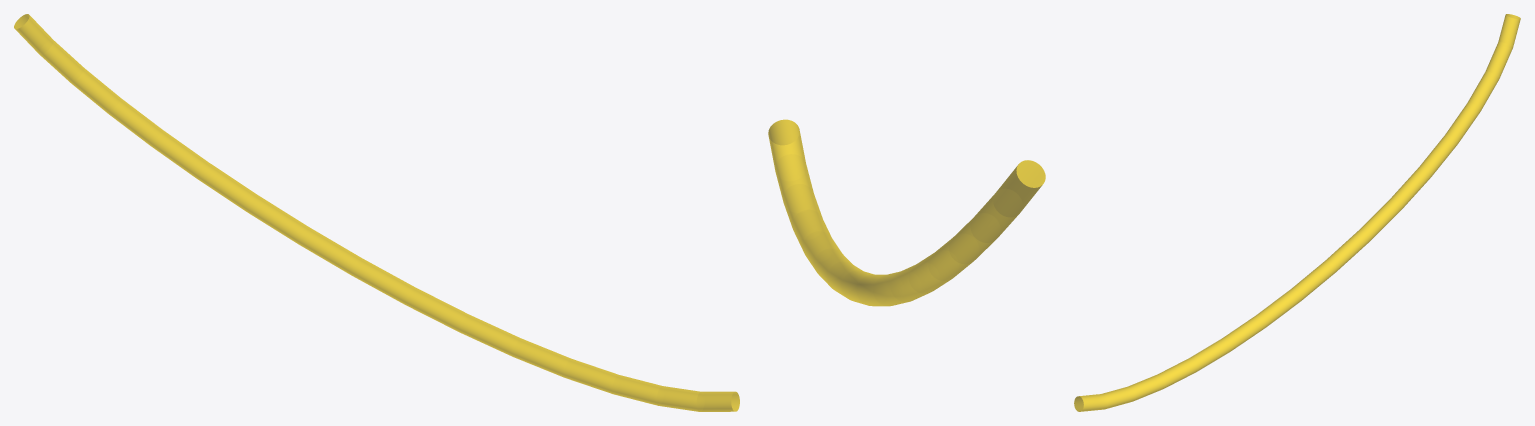
File: Event_17758602_track_94.fbx
3 views of the same model, side by side, from view 1: azimuth 30°, elevation 25°; view 2: azimuth 150°, elevation 25°; view 3: azimuth 270°, elevation 25° (orthographic). The views are drawn at different scales.
Visible parts, largest first — view 1: Model; view 2: Model; view 3: Model.
Boxes of the visible parts, <box> form: Model: <box>14,14,739,411</box>; Model: <box>768,119,1045,306</box>; Model: <box>1074,14,1520,411</box>.
Size of the model in its own units: 1.02 by 0.6645 by 1.12.
